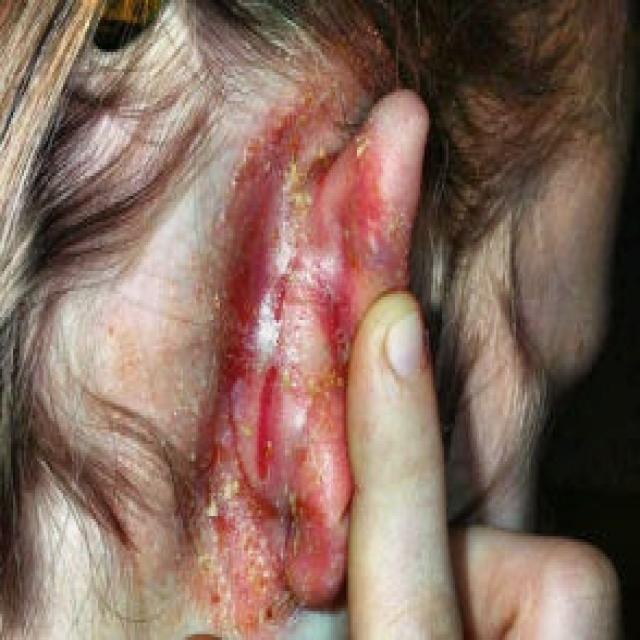Eczema: (209, 30, 425, 608)
